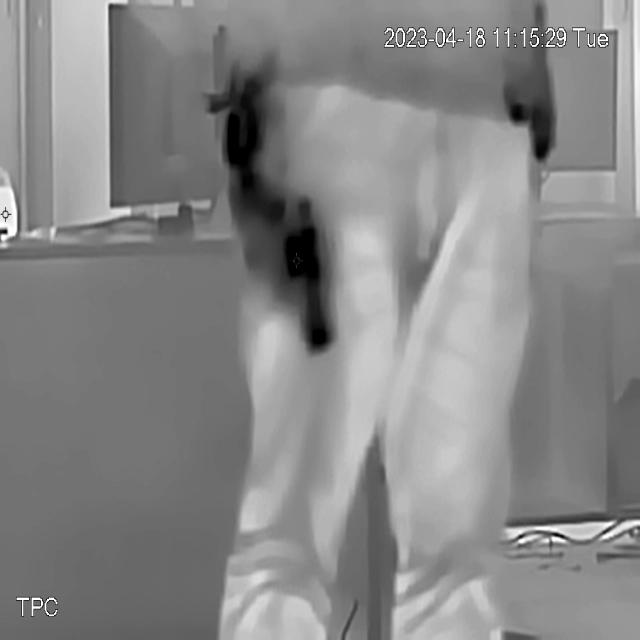Weapon: (225, 176, 355, 364)
